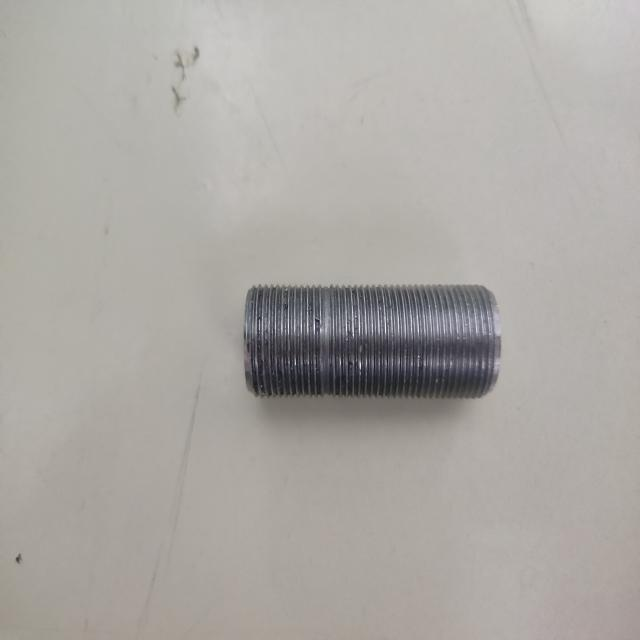Broken: (241, 280, 504, 403)
